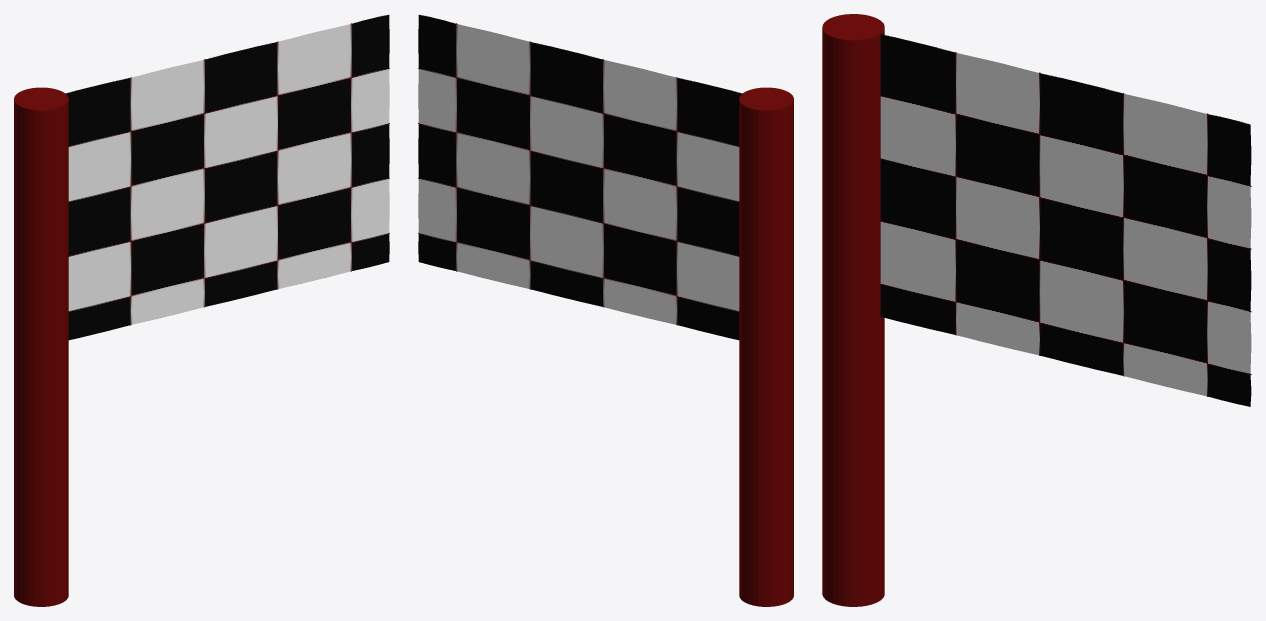
File: goal.obj
The picture shows the model from 3 angles, left to right: view 1: azimuth 30°, elevation 25°; view 2: azimuth 150°, elevation 25°; view 3: azimuth 330°, elevation 25°; orthographic projection. The views are drawn at different scales.
Visible parts, largest first — view 1: 円柱; view 2: 円柱; view 3: 円柱.
Boxes of the visible parts, x1=… form: 円柱: x1=14, y1=14, x2=389, y2=606; 円柱: x1=418, y1=14, x2=793, y2=606; 円柱: x1=822, y1=14, x2=1251, y2=606.
Size of the model in its own units: 1.57 by 2 by 0.2.
Materials: 2 (2 with a texture image).
